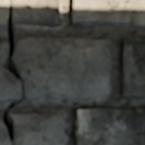brick: (75, 108, 144, 144), (71, 0, 144, 28), (120, 37, 144, 97)
broken_brick: (13, 37, 109, 100), (0, 112, 65, 144), (0, 0, 60, 31), (0, 41, 20, 103)
crack: (0, 2, 25, 142)
